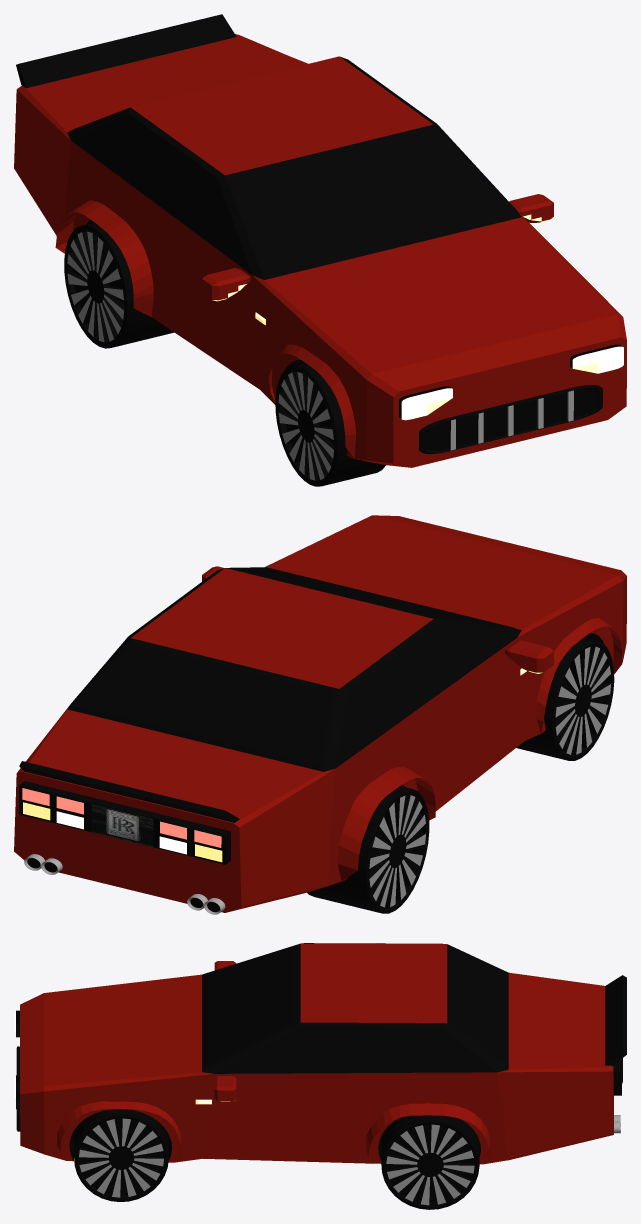
Rendered from Sports car scaled.glb.
3 renders of one model, top to bottom at view 1: azimuth 30°, elevation 25°; view 2: azimuth 150°, elevation 25°; view 3: azimuth 270°, elevation 25°, orthographic. The views are drawn at different scales.
Visible parts, largest first — view 1: Cylinder.005; view 2: Cylinder.005; view 3: Cylinder.005.
Boxes of the visible parts, left/top/right/bottom form: Cylinder.005: left=14, top=14, right=626, bottom=486; Cylinder.005: left=14, top=515, right=626, bottom=914; Cylinder.005: left=14, top=943, right=626, bottom=1209.
Bounding box in the file's own units: 2.99 × 1.82 × 5.98.
Materials: 19 (1 with a texture image).
